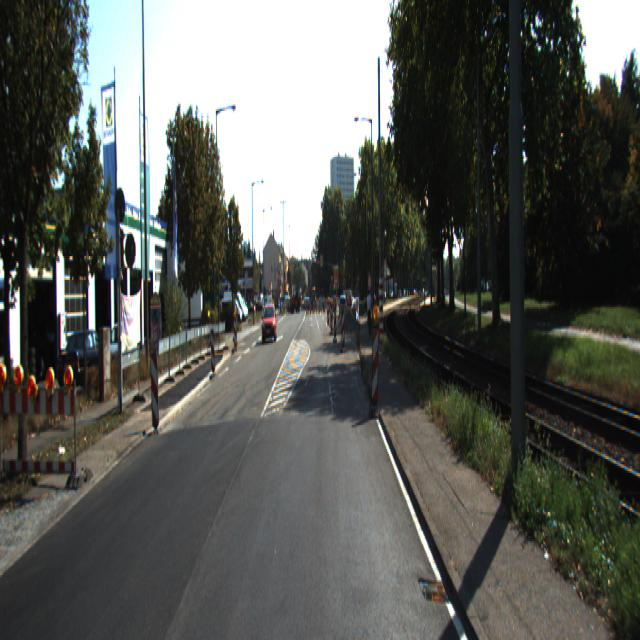Car: (261, 305, 278, 345)
